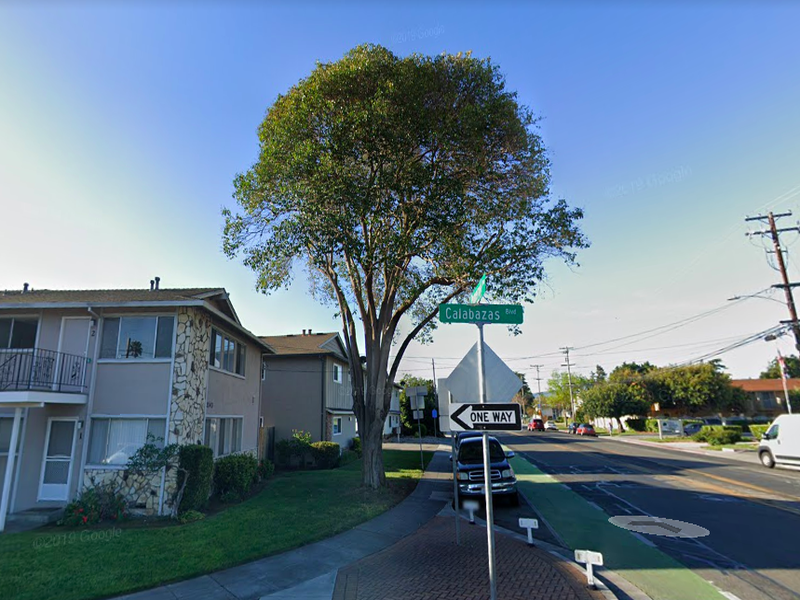tree: (222, 40, 593, 507)
